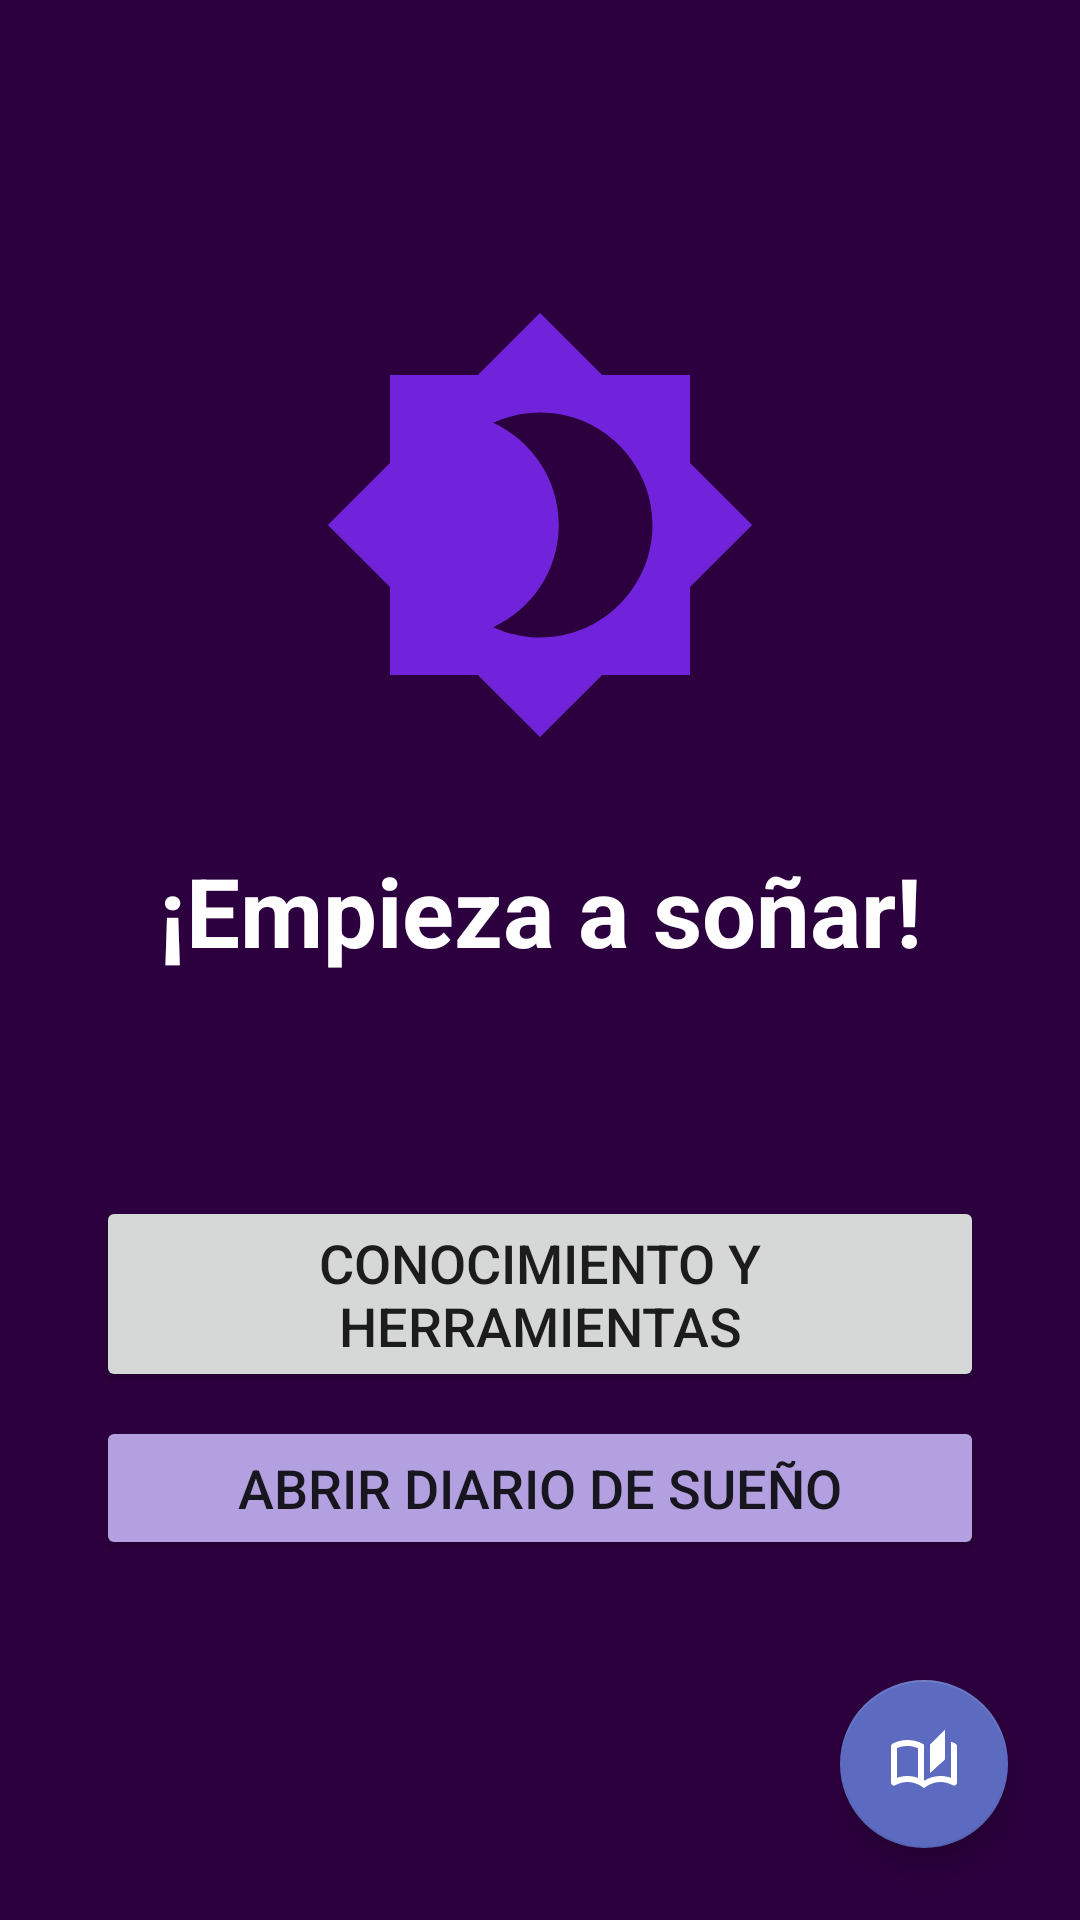

Screen size 1080*1920. Icon name, then its center in pixels as [x,y]:
Ver Referencias Bibliográficas: [924,1764]
